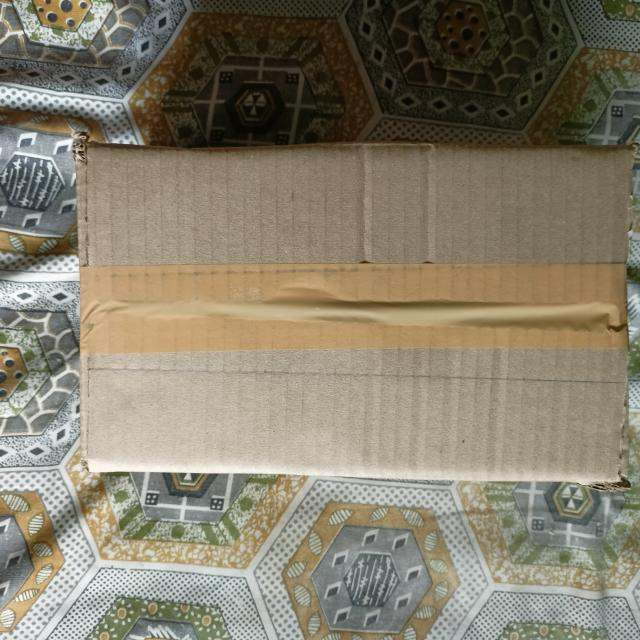box: (83, 150, 634, 481)
